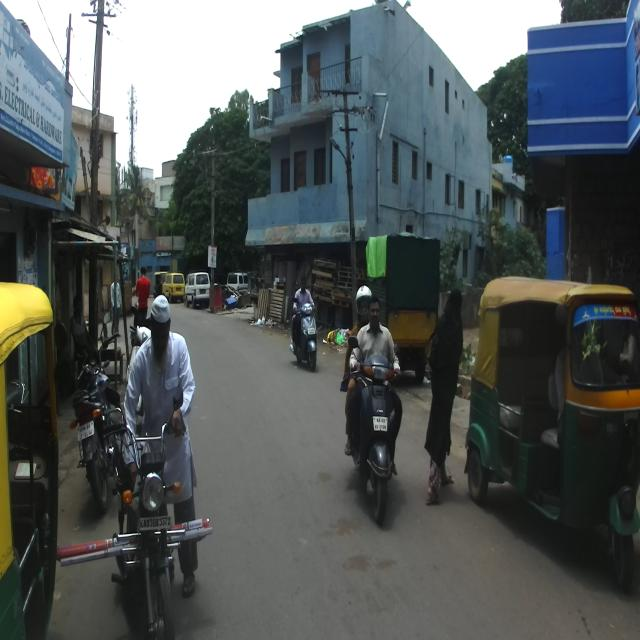auto ahead at: (470, 273, 640, 598)
motorcycle ahead at: (117, 426, 206, 640), (347, 342, 406, 518), (76, 340, 115, 508), (285, 300, 325, 369)
